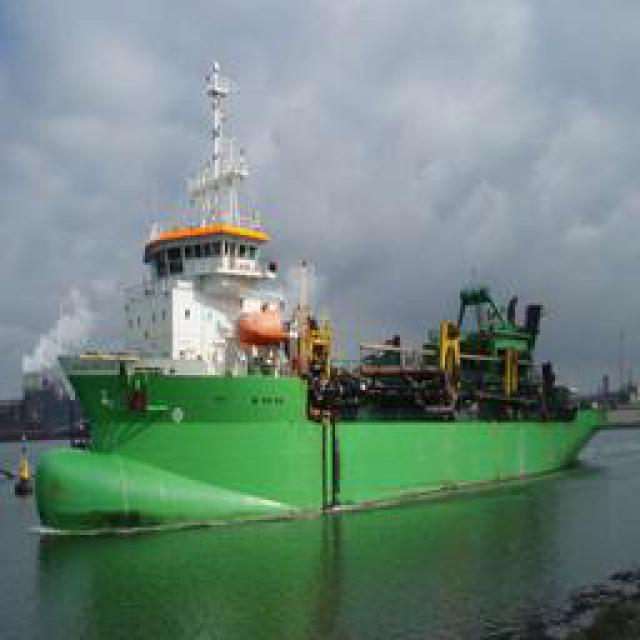Ship: (21, 65, 614, 590)
